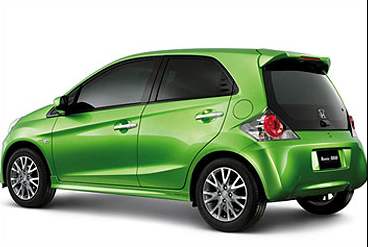car: (1, 45, 367, 235)
